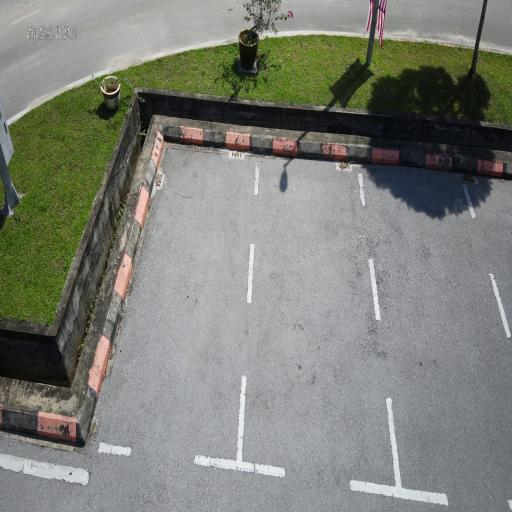Empty: (74, 141, 265, 483), (234, 138, 405, 511)
